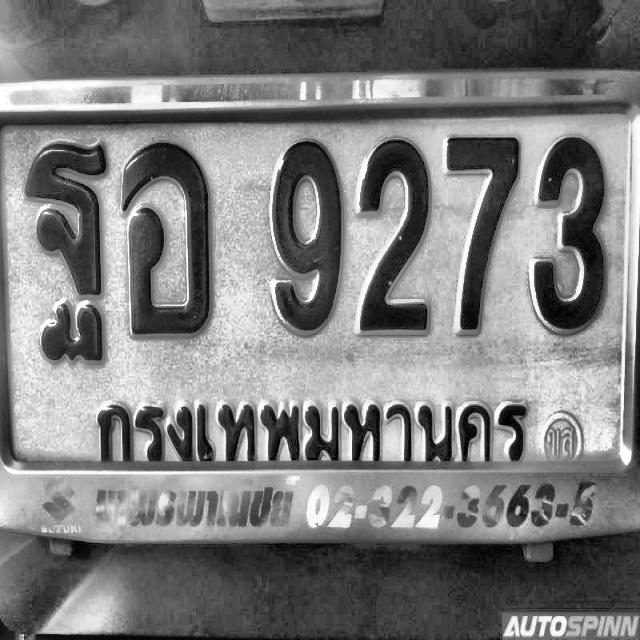license-plate: (0, 62, 640, 558)
